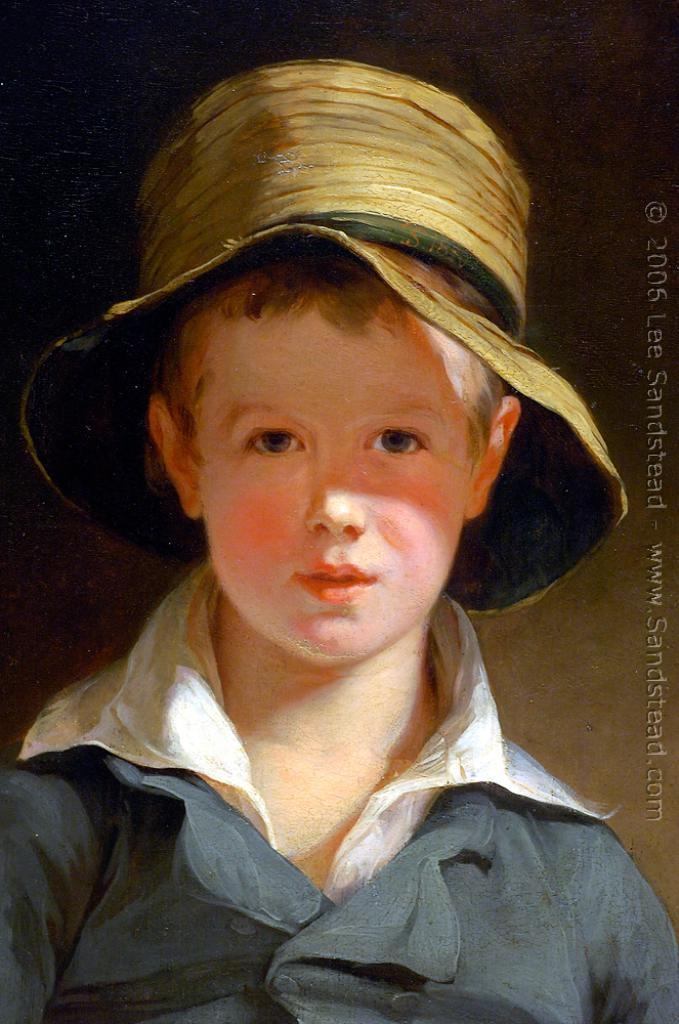Hat: (37, 76, 609, 578)
